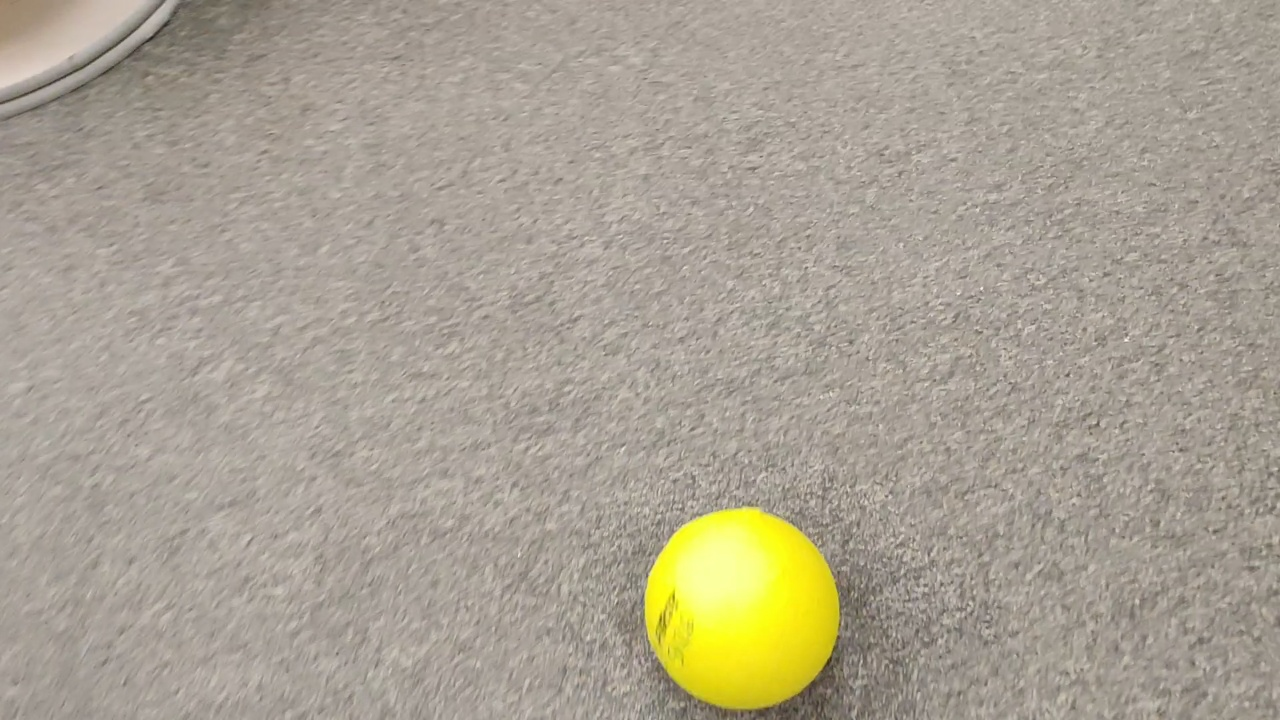Ball: (643, 503, 840, 709)
